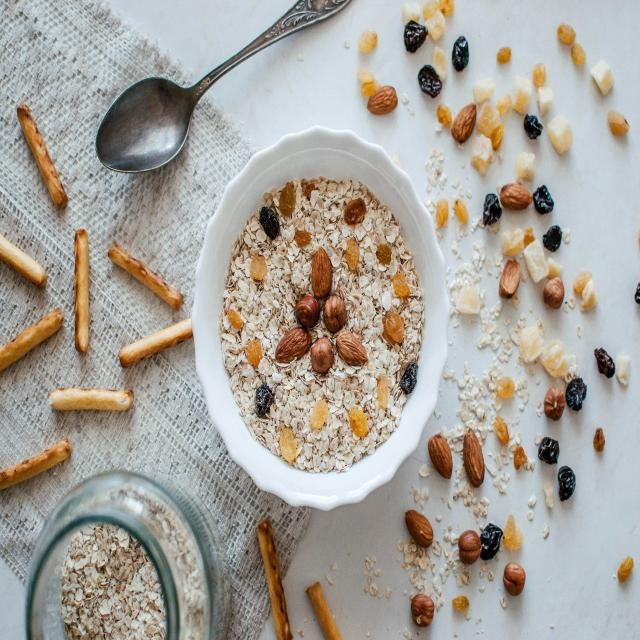avena: (213, 165, 433, 493)
